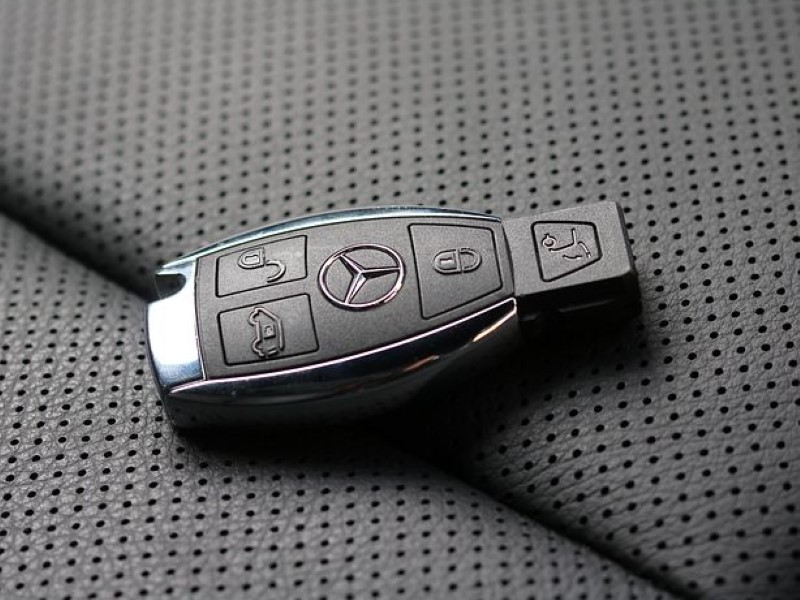carkey: (139, 189, 645, 451)
